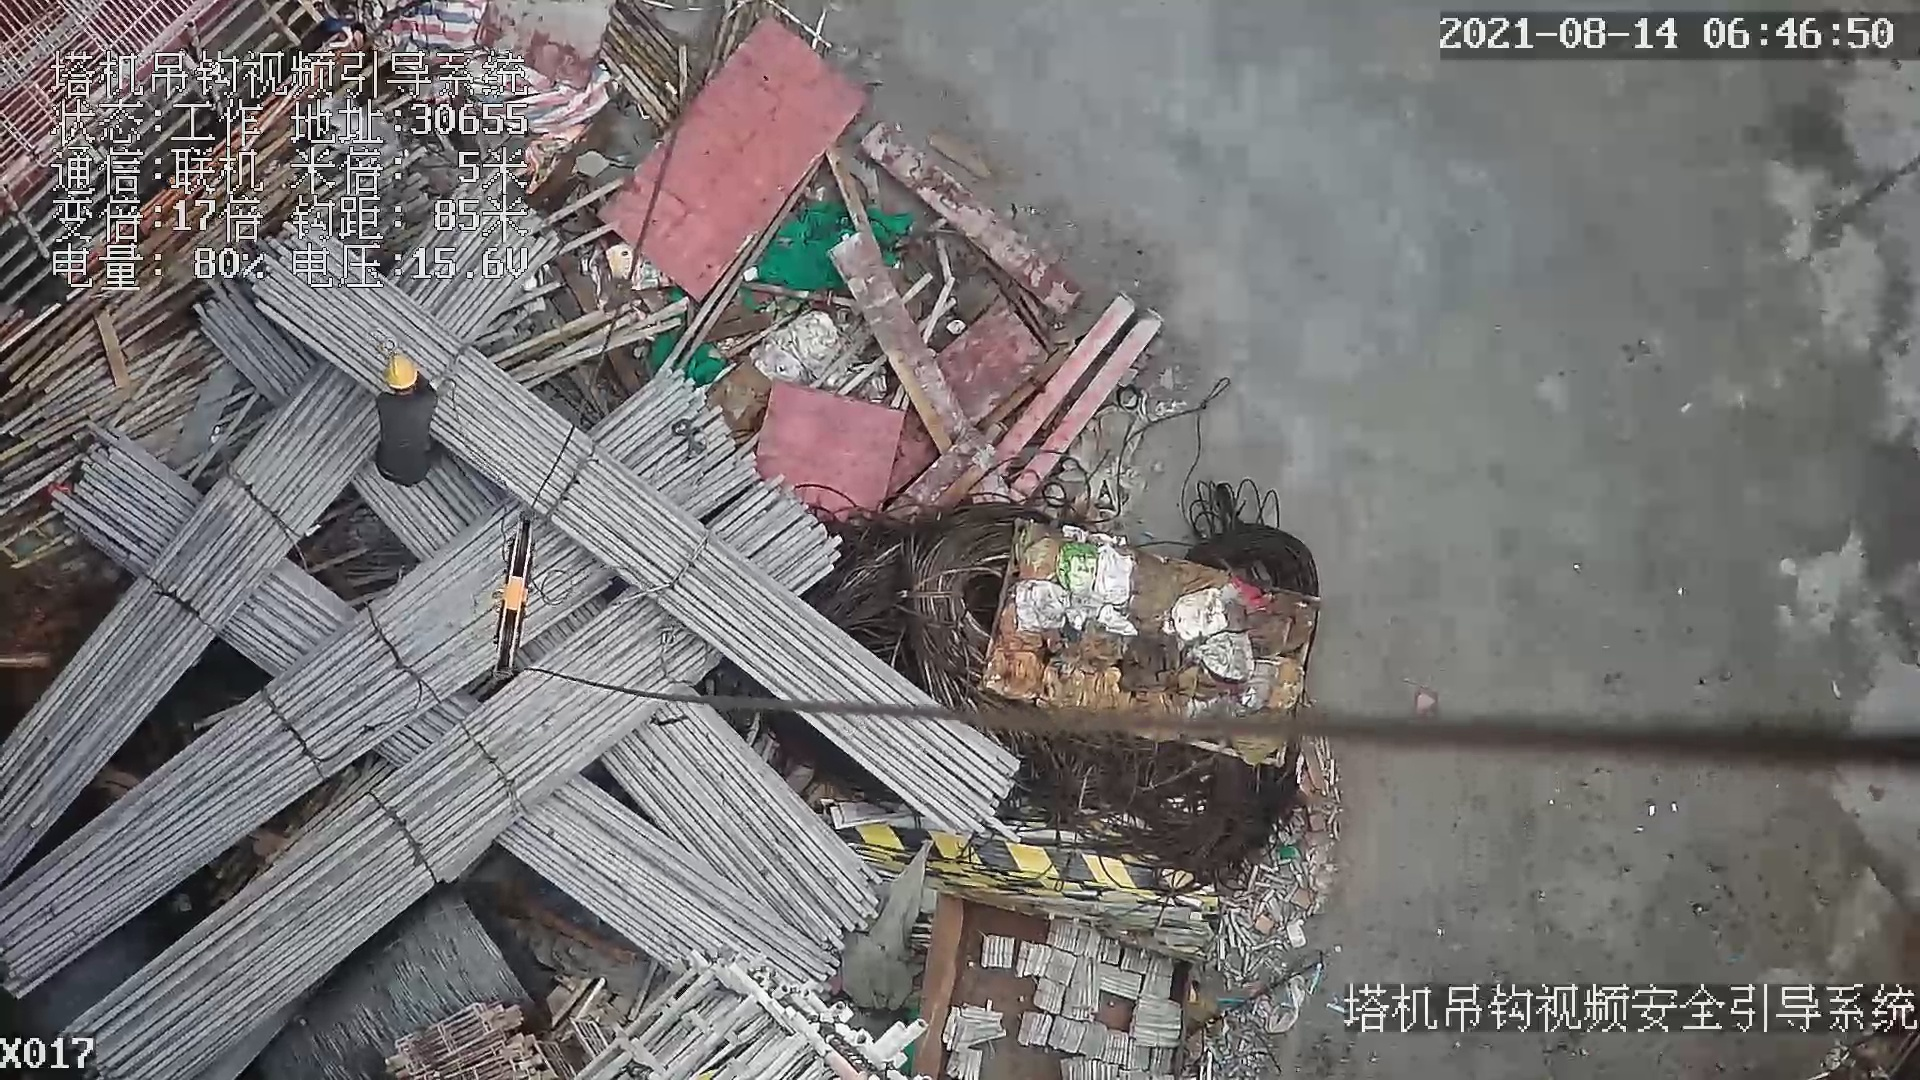board: (593, 11, 866, 305)
helmet: (385, 354, 421, 390)
hook: (482, 505, 540, 685)
person: (367, 347, 450, 490)
